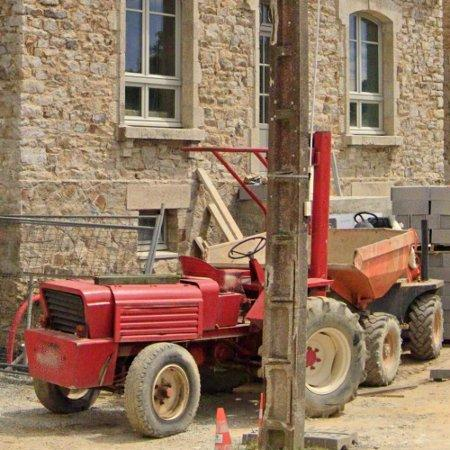tractors: (25, 238, 266, 436), (307, 190, 444, 417)
